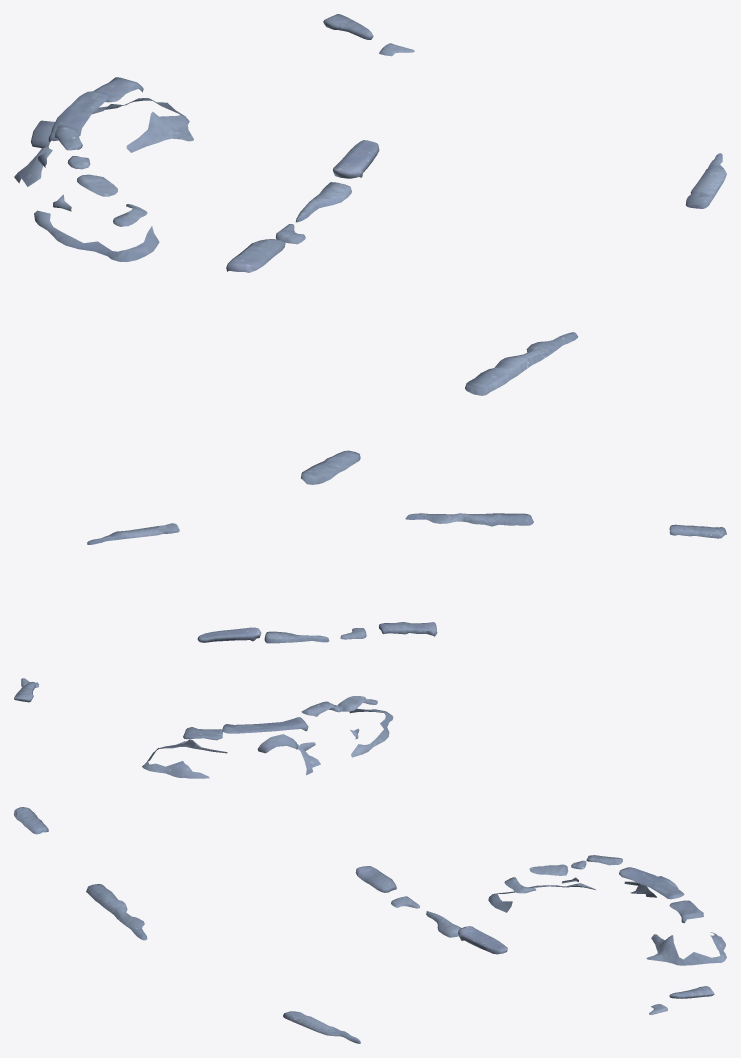
File: pref_sm_beach_winter_snow13_lv1.fbx
The picture shows the model from 3 angles, top to bottom: view 1: azimuth 30°, elevation 25°; view 2: azimuth 150°, elevation 25°; view 3: azimuth 270°, elevation 25°; orthographic projection. The views are drawn at different scales.
Visible parts, largest first — view 1: pref_sm_beach_winter_snow13_lv1; view 2: pref_sm_beach_winter_snow13_lv1; view 3: pref_sm_beach_winter_snow13_lv1.
Part boxes in pixels (box(x1,y1,x2,y2)): pref_sm_beach_winter_snow13_lv1: box(14, 14, 726, 484); pref_sm_beach_winter_snow13_lv1: box(14, 513, 726, 778); pref_sm_beach_winter_snow13_lv1: box(14, 807, 726, 1043).
Size of the model in its own units: 24.54 by 2.33 by 31.91.
